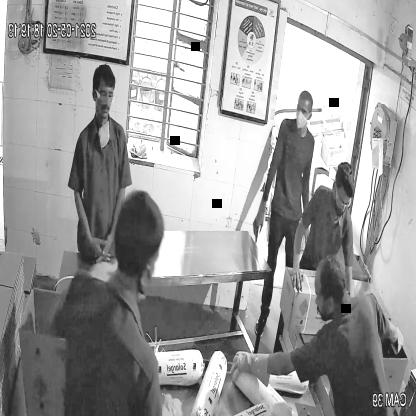goggles: (92, 89, 116, 106)
no_goggles: (293, 105, 316, 118)
